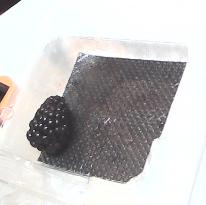berry: (26, 95, 72, 155)
